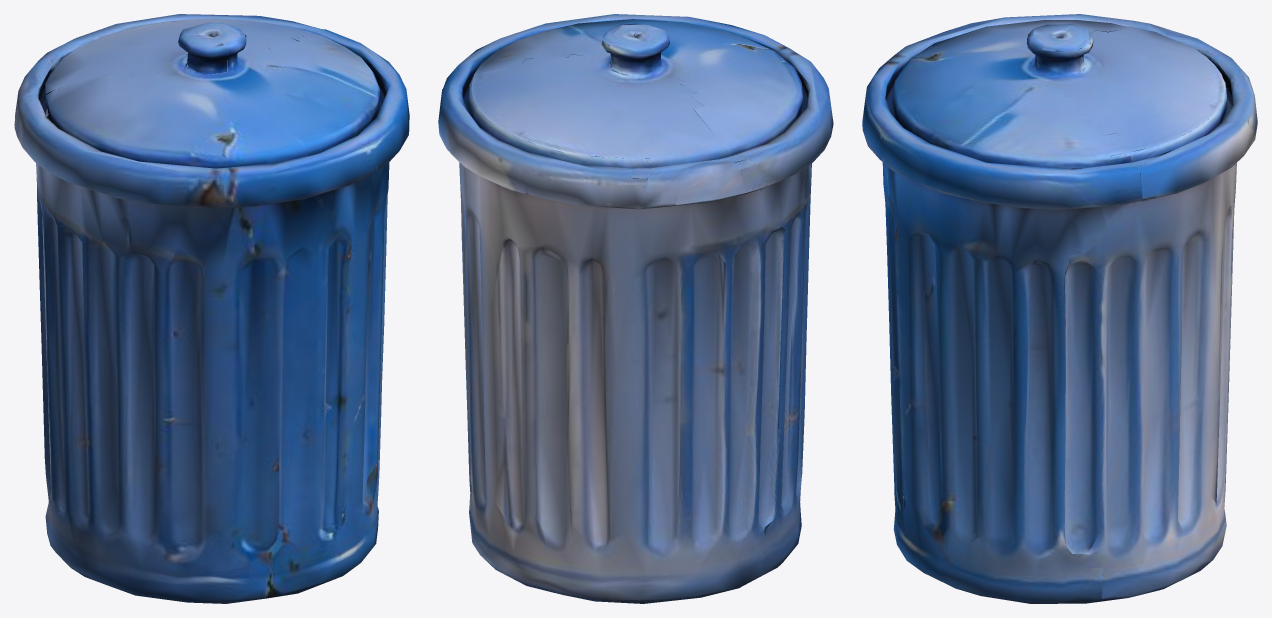
Rendered from prop_tong_sampah.glb.
The picture shows the model from 3 angles, left to right: view 1: azimuth 30°, elevation 25°; view 2: azimuth 150°, elevation 25°; view 3: azimuth 270°, elevation 25°; orthographic projection.
Parts seen in each view (by area): view 1: prop_tong_sampah; view 2: prop_tong_sampah; view 3: prop_tong_sampah.
Part boxes in pixels (box(x1,y1,x2,y2)): prop_tong_sampah: box(14, 14, 409, 603); prop_tong_sampah: box(438, 14, 833, 603); prop_tong_sampah: box(862, 14, 1257, 603).
Size of the model in its own units: 0.6431 by 0.9008 by 0.6422.
1 material, 1 textured.
